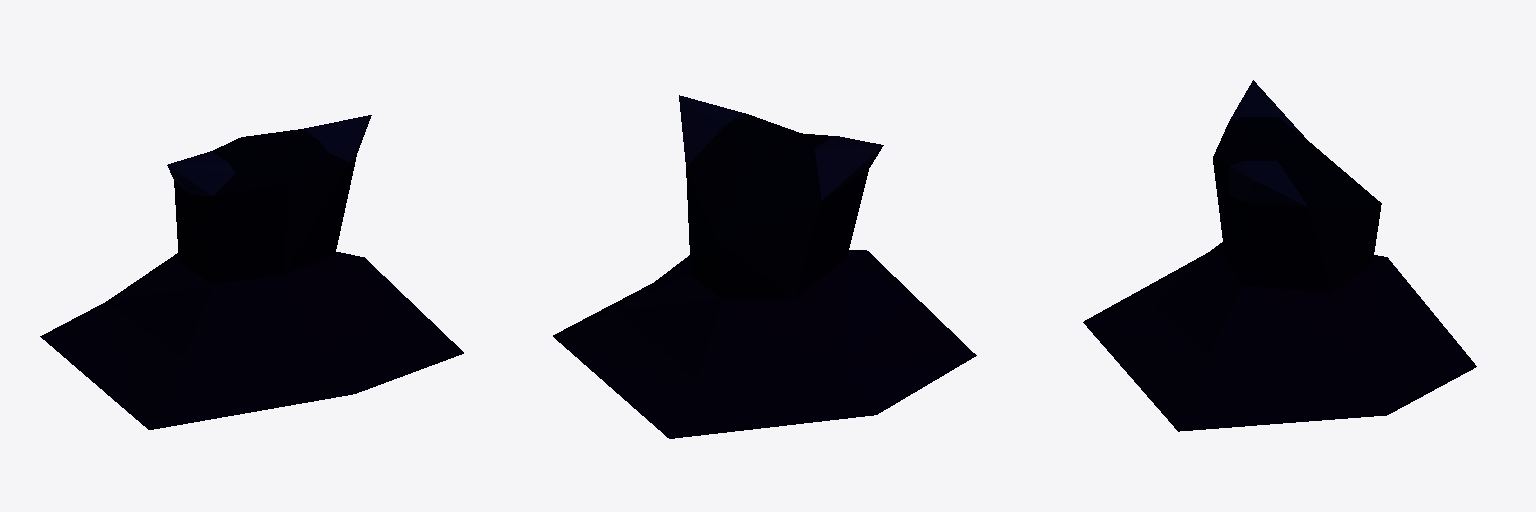
Rendered from dress.obj.
3 views of the same model, side by side, from view 1: azimuth 30°, elevation 25°; view 2: azimuth 150°, elevation 25°; view 3: azimuth 270°, elevation 25° (orthographic).
Visible parts, largest first — view 1: Cube.002, Cube, Cube.003; view 2: Cube.002, Cube, Cube.003; view 3: Cube.002, Cube, Cube.003.
Part boxes in pixels (x1,y1,x2,y2): Cube.002: (40, 252, 463, 429); Cube: (174, 129, 356, 284); Cube.003: (167, 115, 371, 195); Cube.002: (553, 250, 976, 438); Cube: (686, 114, 868, 298); Cube.003: (679, 95, 883, 199); Cube.002: (1083, 242, 1476, 431); Cube: (1213, 117, 1381, 292); Cube.003: (1229, 80, 1307, 206).
Bounding box in the file's own units: 2.8 × 2.08 × 2.95.